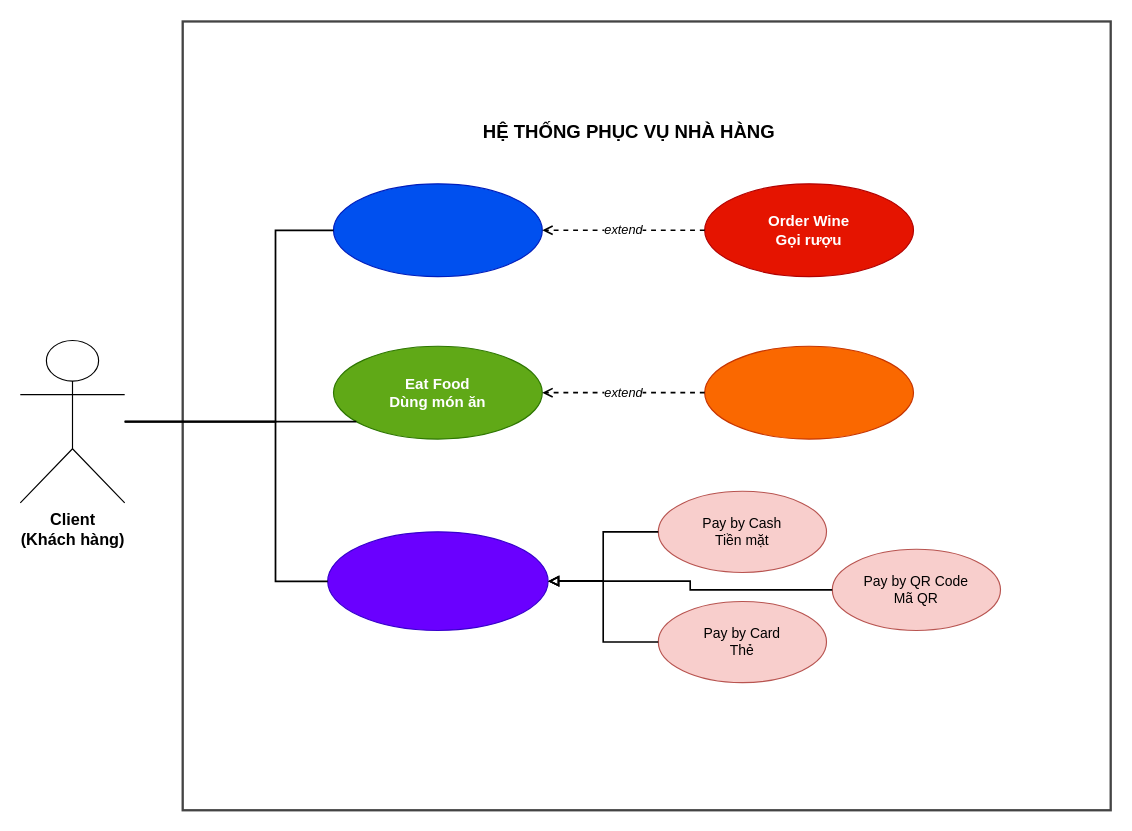
Some shapes in this 1132 by 831 pixel diagram are drawn without their labels. Each missing label, with the centre of its shape:
"Drink Wine Uống rượu" goes at point (808, 392).
"Order Food Gọi món ăn" goes at point (437, 230).
"Pay for Food Thanh toán tiền ăn" goes at point (437, 580).
